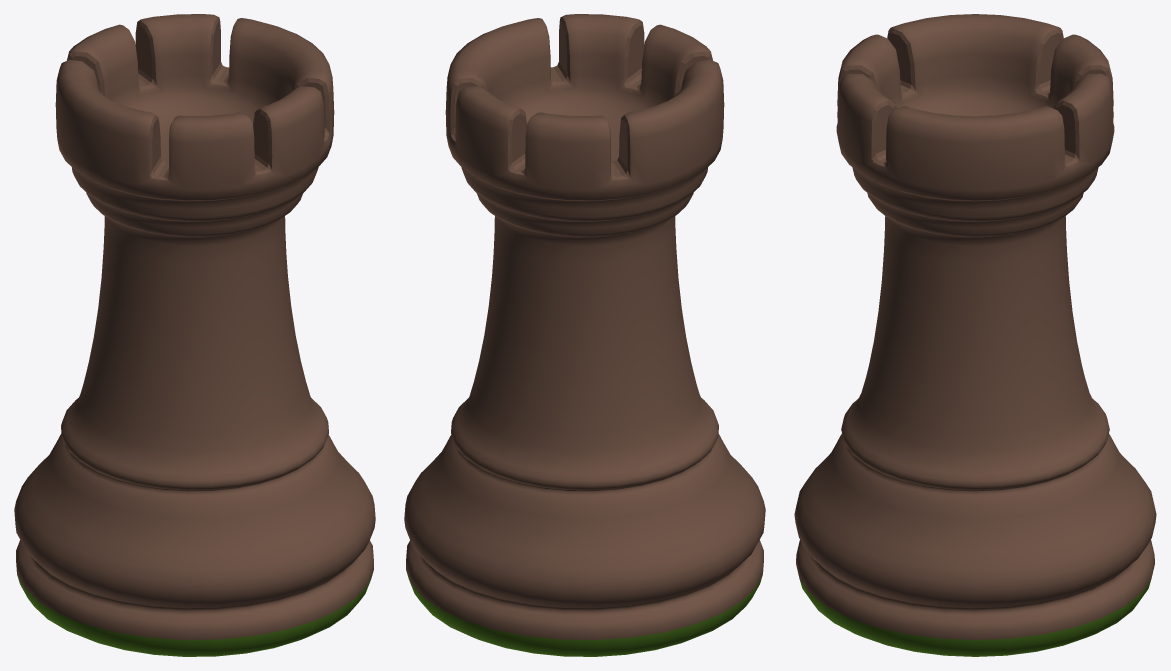
File: blackcastle.glb
3 renders of one model, left to right at view 1: azimuth 30°, elevation 25°; view 2: azimuth 150°, elevation 25°; view 3: azimuth 270°, elevation 25°, orthographic.
Visible parts, largest first — view 1: blackcastle; view 2: blackcastle; view 3: blackcastle.
Boxes of the visible parts, x1,y1,x2,y2 form: blackcastle: (14, 14, 375, 656); blackcastle: (404, 14, 765, 656); blackcastle: (794, 14, 1156, 656).
Size of the model in its own units: 0.5778 by 0.9455 by 0.5778.
